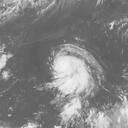cyclone: (48, 43, 95, 96)
